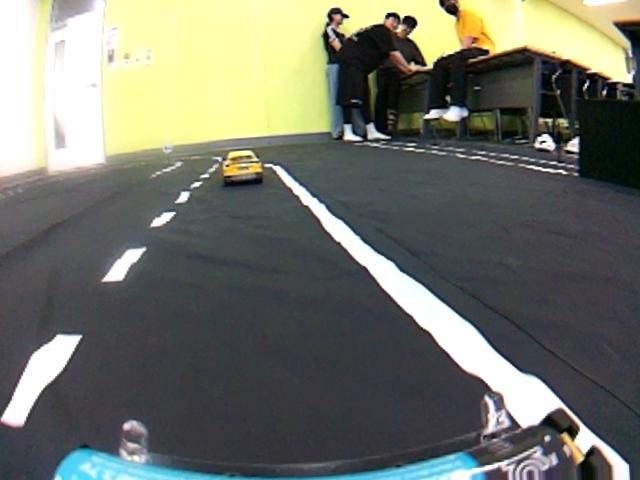straight: (219, 147, 265, 184)
